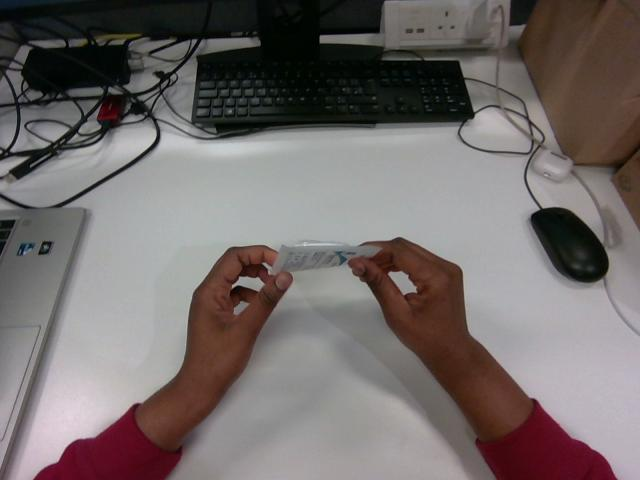gauze: (272, 242, 380, 274)
